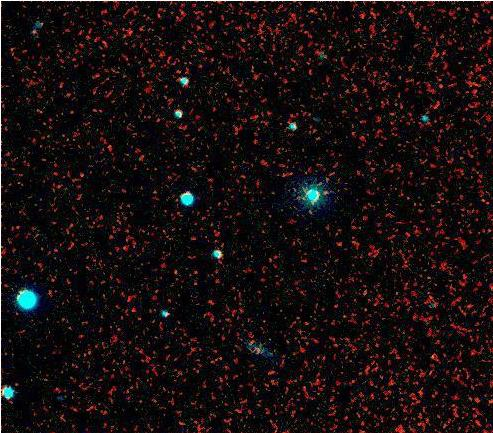star: (20, 19, 50, 49)
